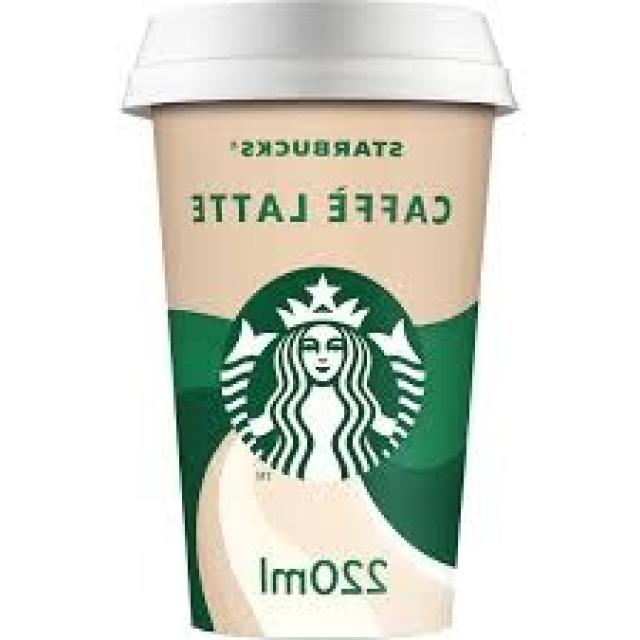starbucks: (208, 252, 432, 488)
